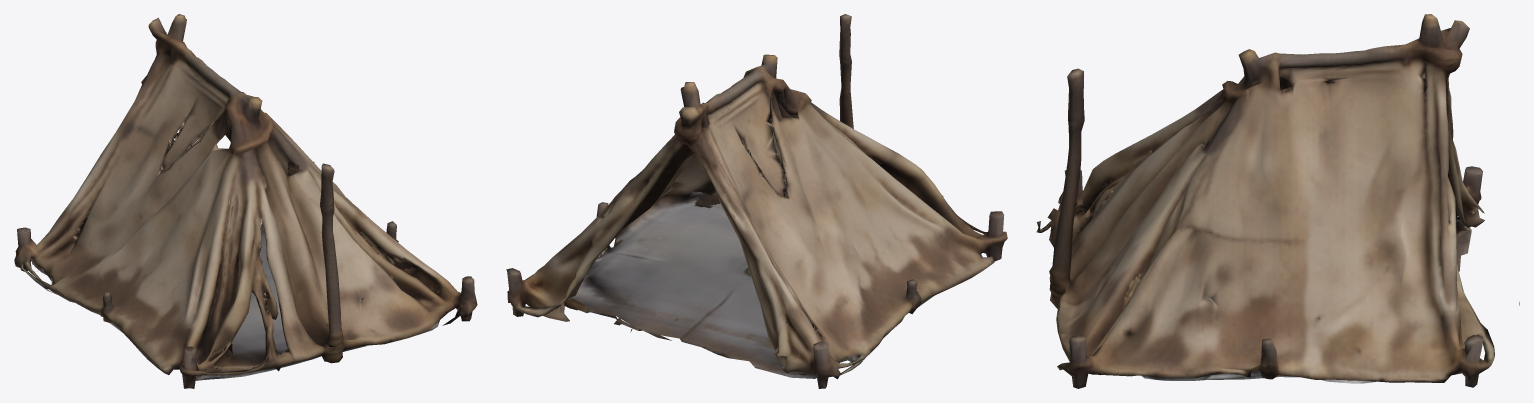
Rendered from tent.glb.
3 views of the same model, side by side, from view 1: azimuth 30°, elevation 25°; view 2: azimuth 150°, elevation 25°; view 3: azimuth 270°, elevation 25° (orthographic). The views are drawn at different scales.
Visible parts, largest first — view 1: MV_tent; view 2: MV_tent; view 3: MV_tent.
Part boxes in pixels (<box>): MV_tent: <box>14,14,477,388</box>; MV_tent: <box>506,14,1007,388</box>; MV_tent: <box>1036,14,1519,388</box>.
Size of the model in its own units: 2.81 by 2.1 by 3.17.
1 material, 1 textured.
